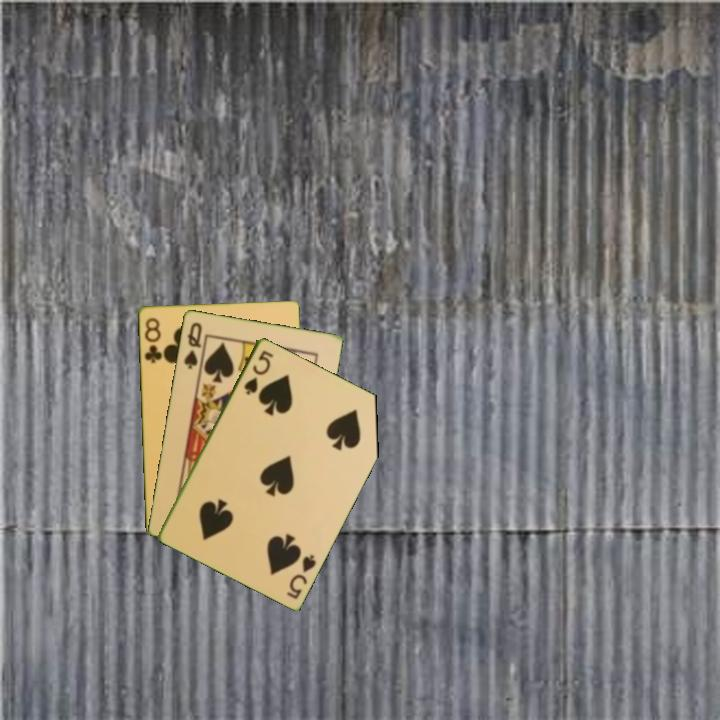5s: (240, 346, 276, 398), (283, 550, 319, 601)
8c: (141, 314, 164, 366)
Qs: (180, 318, 205, 372)
